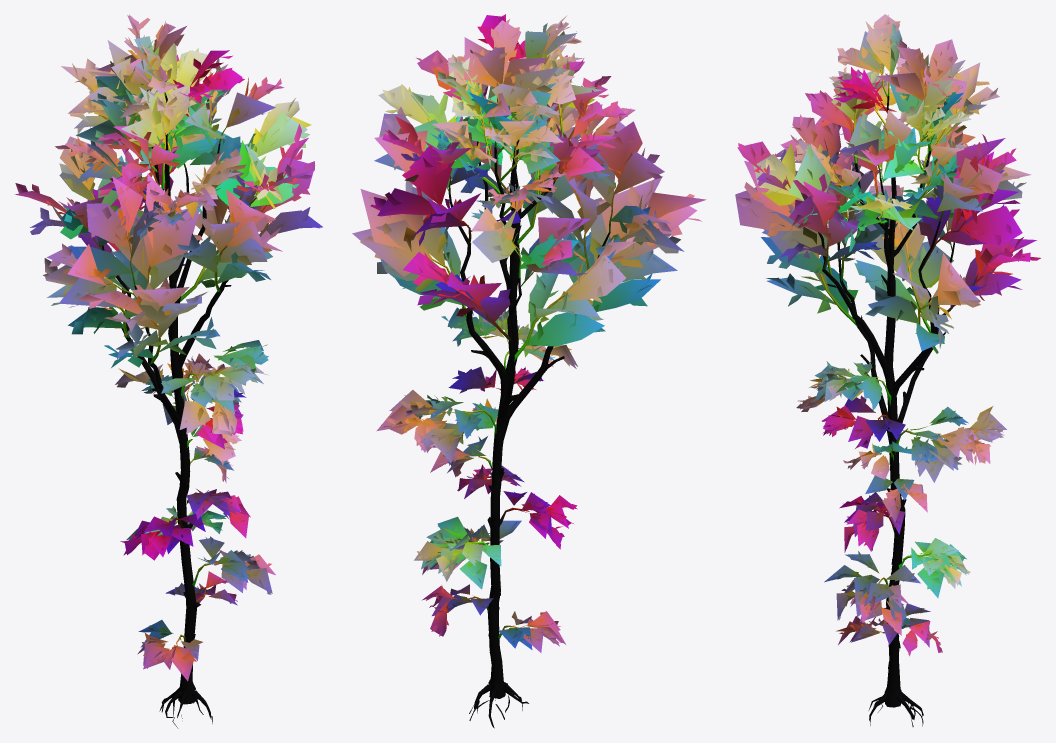
The model's file is SM_EuropeanBeech_XL_03.fbx.
3 views of the same model, side by side, from view 1: azimuth 30°, elevation 25°; view 2: azimuth 150°, elevation 25°; view 3: azimuth 270°, elevation 25° (orthographic). The views are drawn at different scales.
Visible parts, largest first — view 1: SM_EuropeanBeech_XL_03_LOD0; view 2: SM_EuropeanBeech_XL_03_LOD0; view 3: SM_EuropeanBeech_XL_03_LOD0.
Boxes of the visible parts, x1=… form: SM_EuropeanBeech_XL_03_LOD0: x1=14, y1=14, x2=322, y2=728; SM_EuropeanBeech_XL_03_LOD0: x1=352, y1=14, x2=706, y2=728; SM_EuropeanBeech_XL_03_LOD0: x1=735, y1=14, x2=1040, y2=726.
Size of what is drawn, in the model's own units: 1009 by 993 by 2427.
